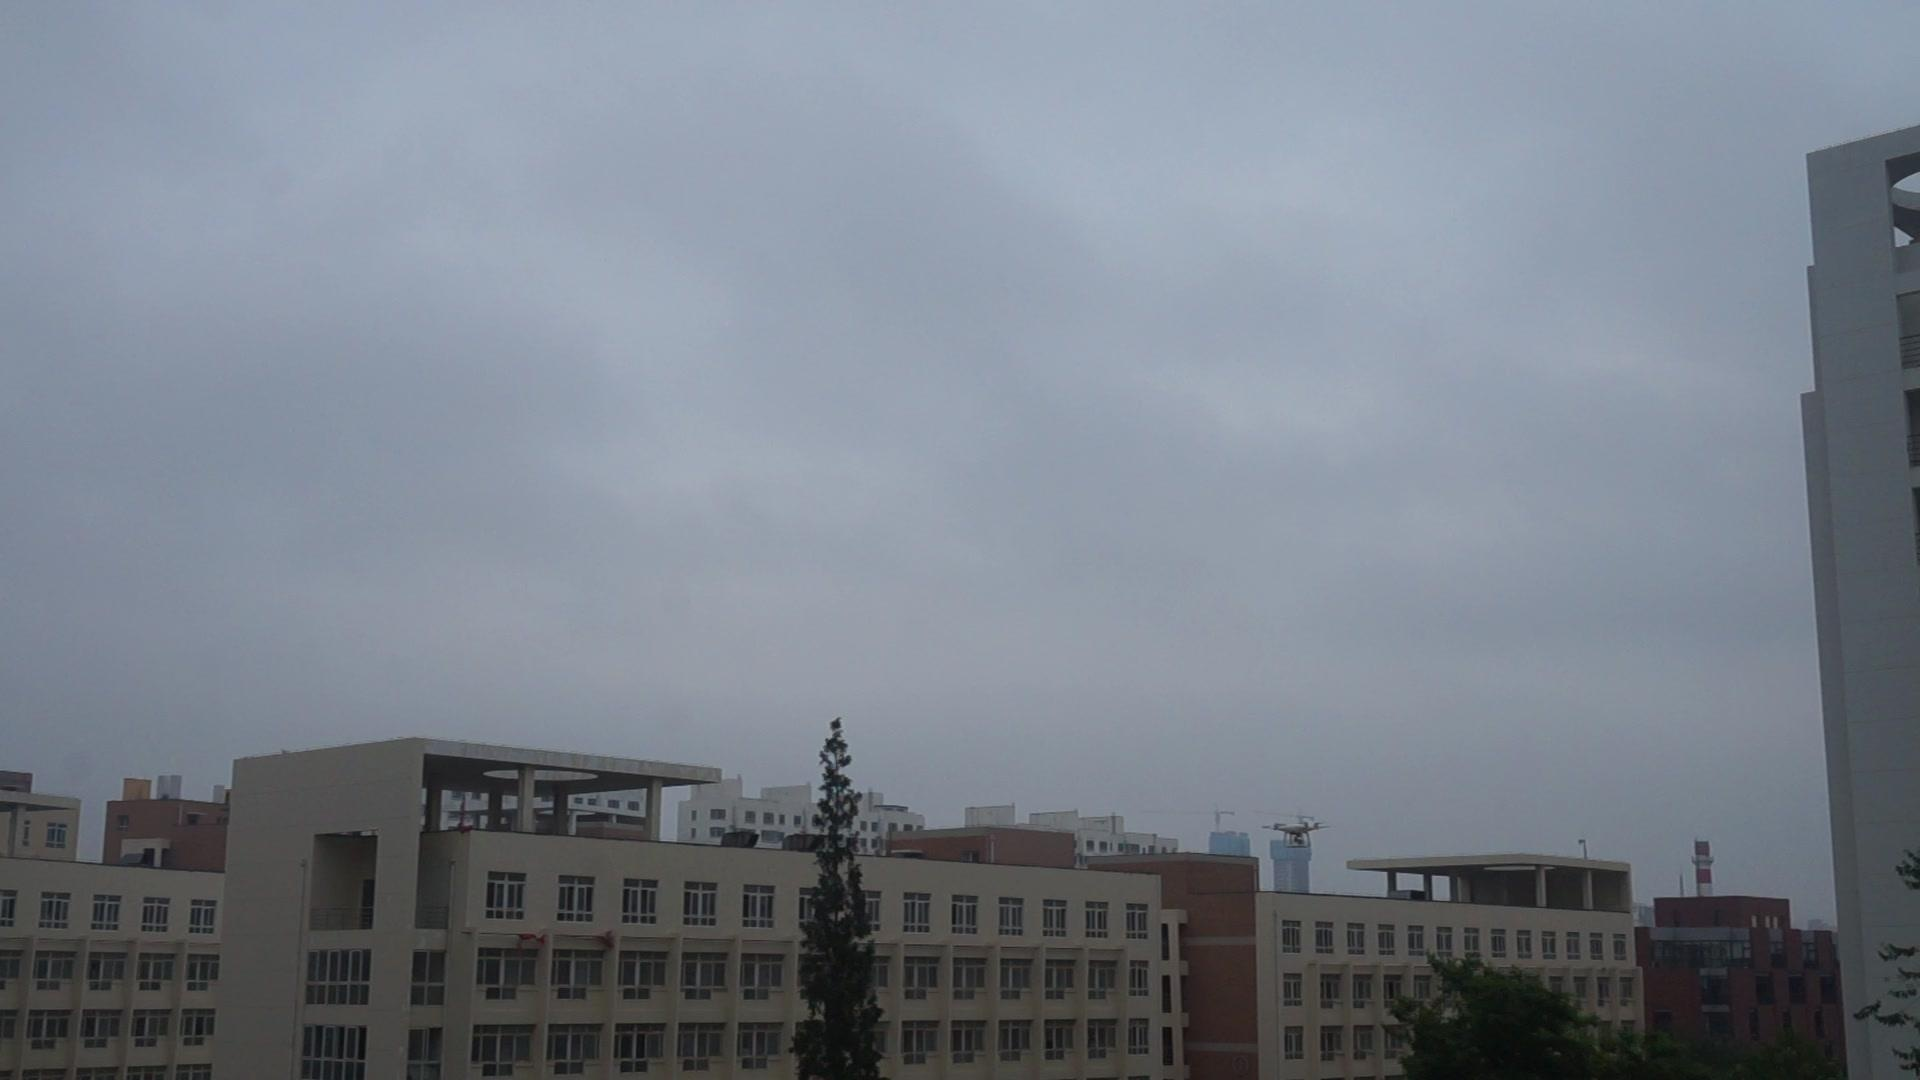UAV: (1262, 818, 1331, 848)
